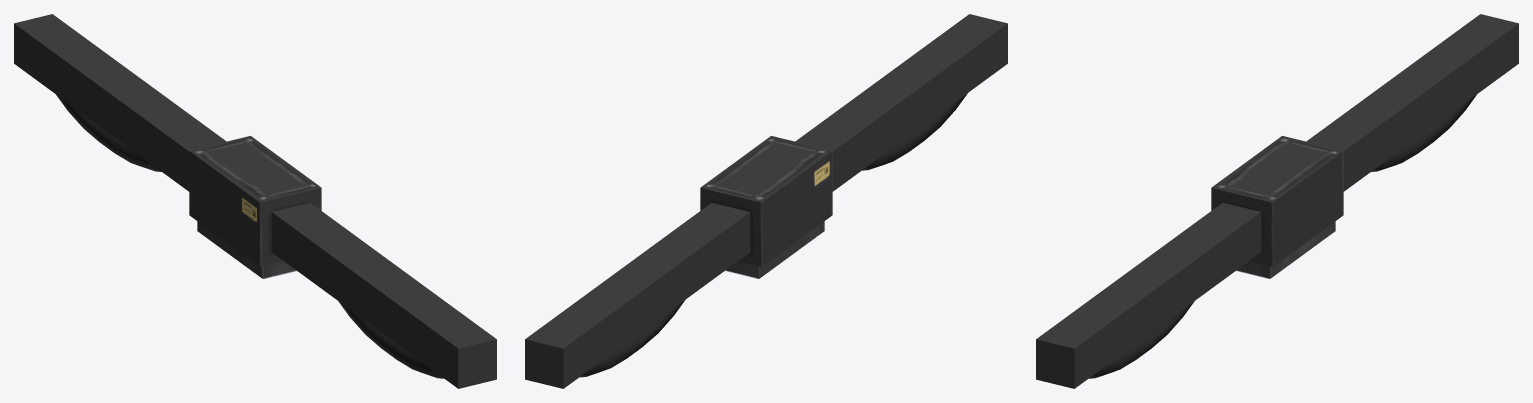
The model's file is ceilingLamp01.fbx.
3 views of the same model, side by side, from view 1: azimuth 30°, elevation 25°; view 2: azimuth 150°, elevation 25°; view 3: azimuth 330°, elevation 25° (orthographic).
Parts seen in each view (by area): view 1: ceilingLamp01; view 2: ceilingLamp01; view 3: ceilingLamp01.
Part boxes in pixels (<box>): ceilingLamp01: <box>14,14,496,388</box>; ceilingLamp01: <box>525,14,1007,388</box>; ceilingLamp01: <box>1036,14,1518,388</box>.
Bounding box in the file's own units: 0.3198 × 0.4174 × 4.
Materials: 1 (1 with a texture image).
